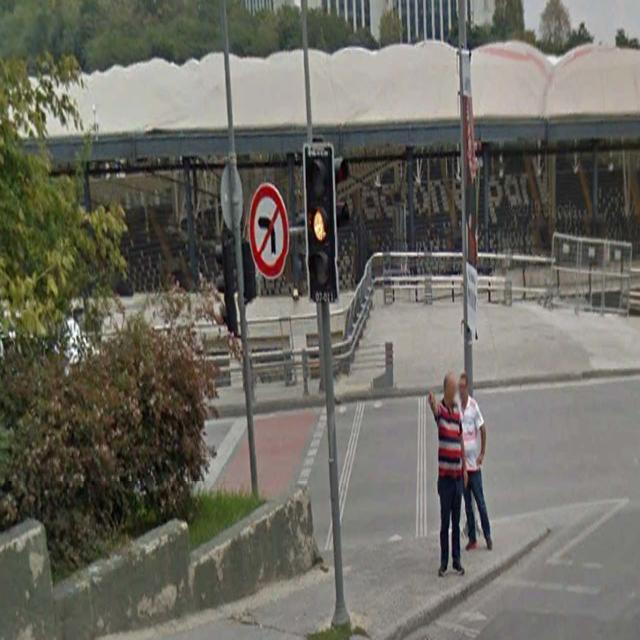sari: (304, 143, 338, 304)
soladonulmez: (249, 182, 290, 279)
